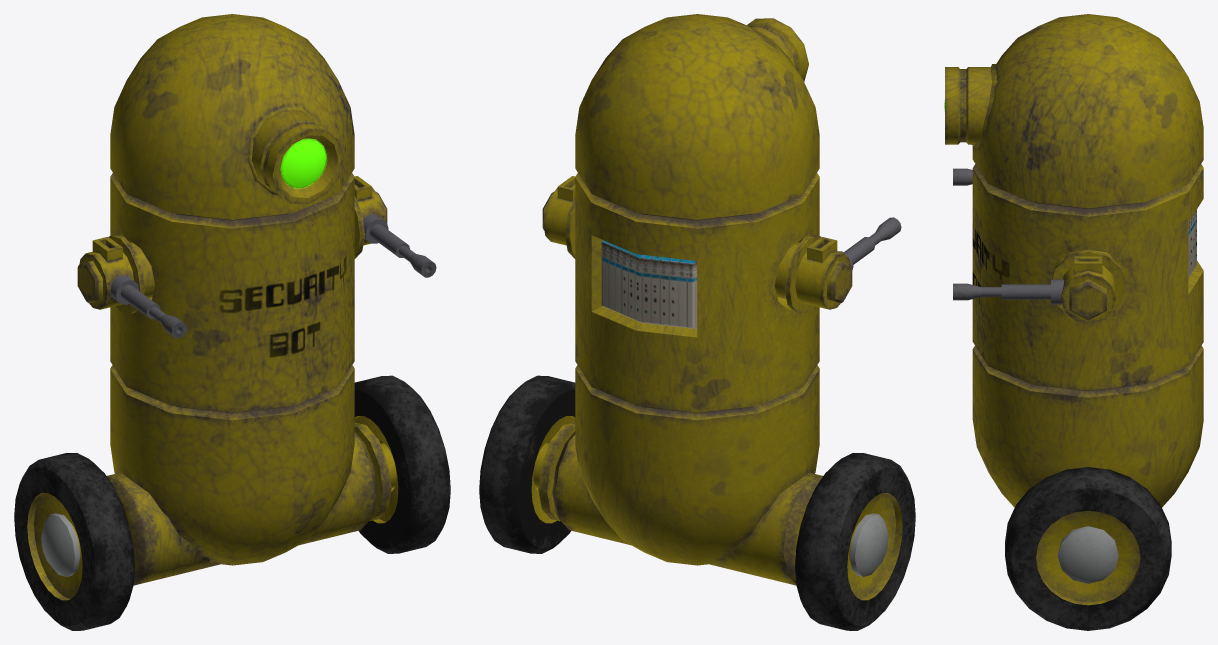
File: robot.glb
3 renders of one model, left to right at view 1: azimuth 30°, elevation 25°; view 2: azimuth 150°, elevation 25°; view 3: azimuth 270°, elevation 25°, orthographic. The views are drawn at different scales.
Visible parts, largest first — view 1: Object003_Material #2_0; view 2: Object003_Material #2_0; view 3: Object003_Material #2_0.
Boxes of the visible parts, box(x1,y1,x2,y2) form: Object003_Material #2_0: box(14, 14, 450, 630); Object003_Material #2_0: box(479, 14, 915, 630); Object003_Material #2_0: box(944, 14, 1203, 630).
Bounding box in the file's own units: 71.91 × 105 × 47.05.
1 material, 1 textured.
